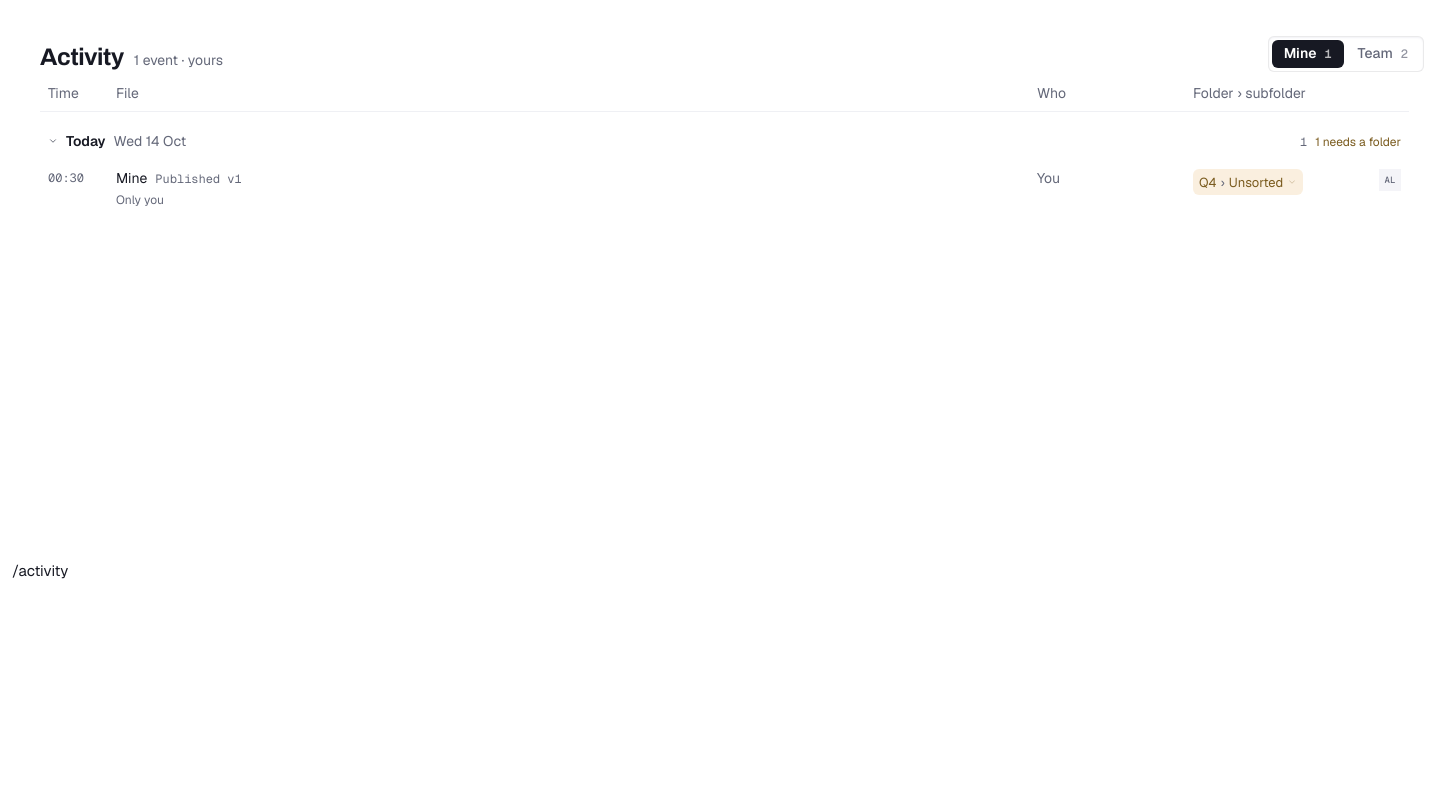
it: ActivityScreen › shows the reader's own events by default and the team's through ?scope=team
Check: the heading "Activity" is shown, box [40, 44, 124, 72]
Check: the text "1 event · yours" is shown, box [134, 51, 223, 71]
Click the button "Team 2": (1383, 54) [1346, 40, 1420, 68]
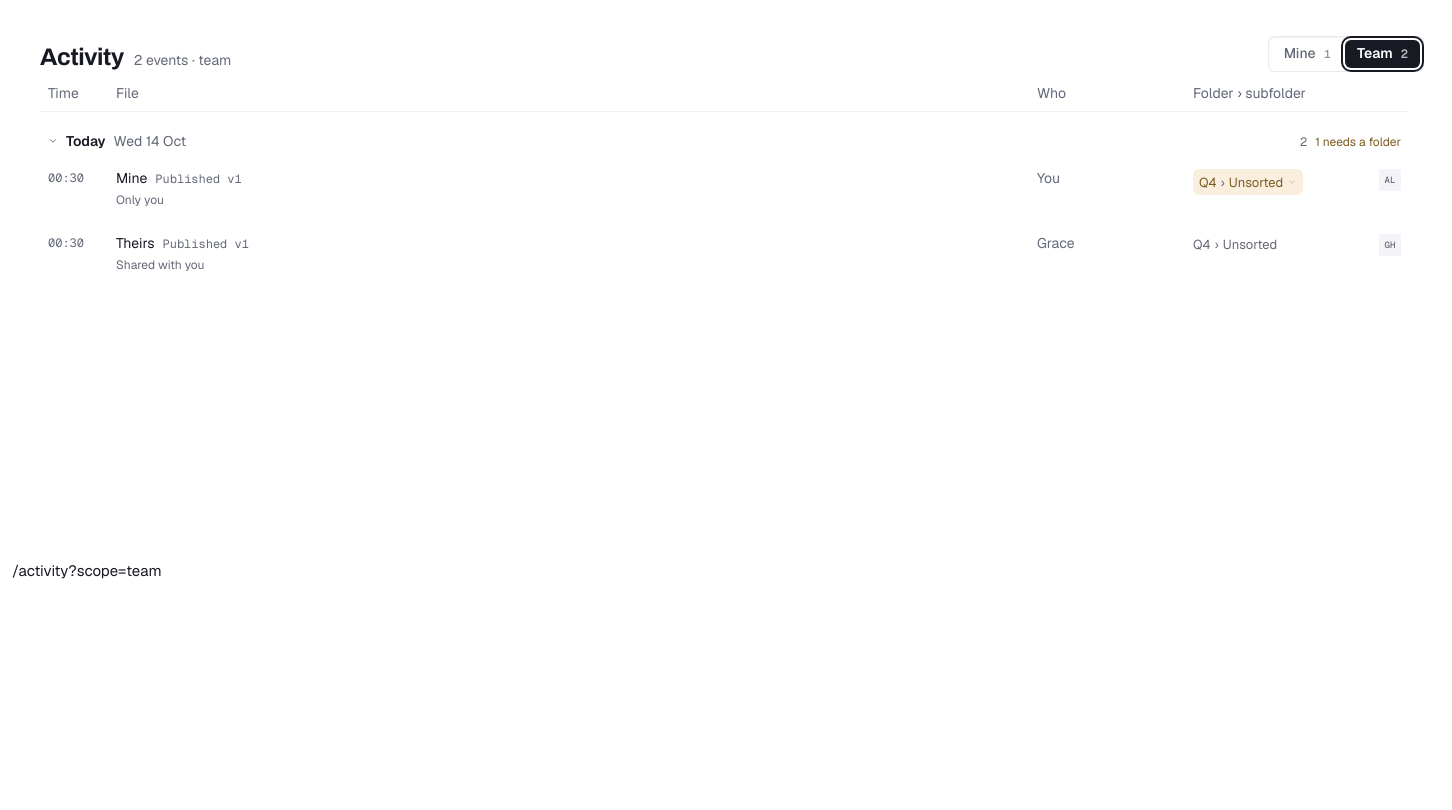
Check: the text with test id "where" reads "/activity?scope=team", box [12, 561, 162, 580]
Check: the text "2 events · team" is shown, box [134, 51, 231, 71]
Check: the link "Theirs" is shown, box [116, 234, 154, 253]
